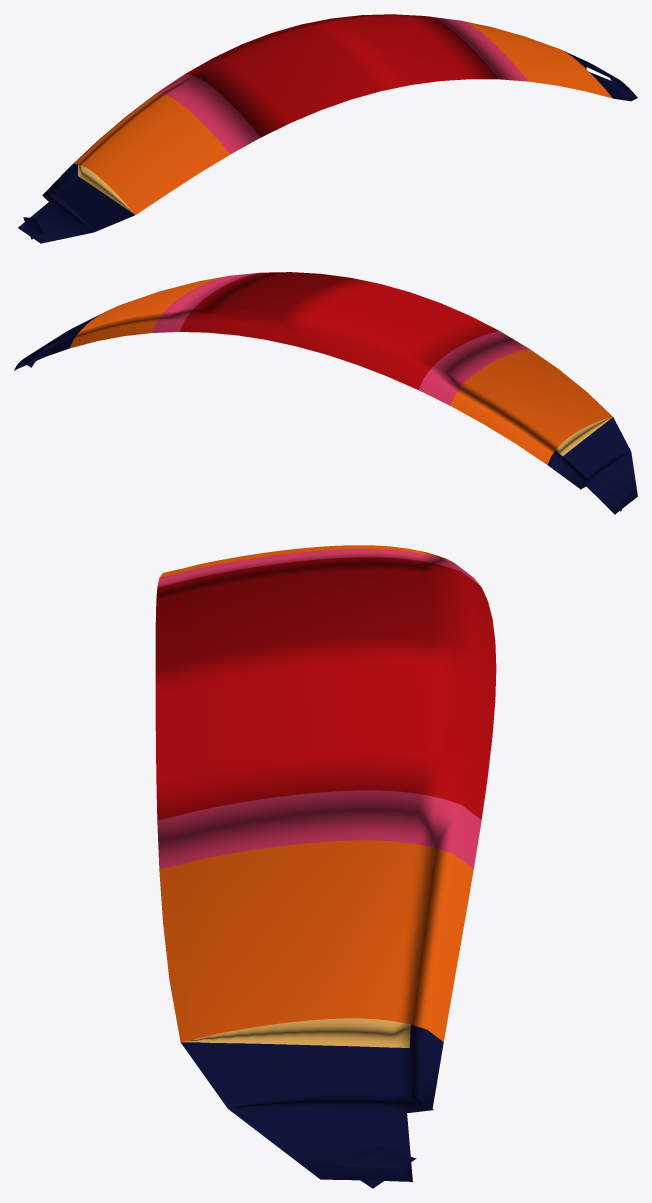
Rendered from canopy.fbx.
3 renders of one model, top to bottom at view 1: azimuth 30°, elevation 25°; view 2: azimuth 150°, elevation 25°; view 3: azimuth 270°, elevation 25°, orthographic. The views are drawn at different scales.
Visible parts, largest first — view 1: Canopy; view 2: Canopy; view 3: Canopy.
Part boxes in pixels (x1,y1,x2,y2): Canopy: (18, 14, 637, 243); Canopy: (14, 272, 637, 514); Canopy: (155, 545, 496, 1188).
Size of the model in its own units: 9.23 by 1.95 by 2.28.
